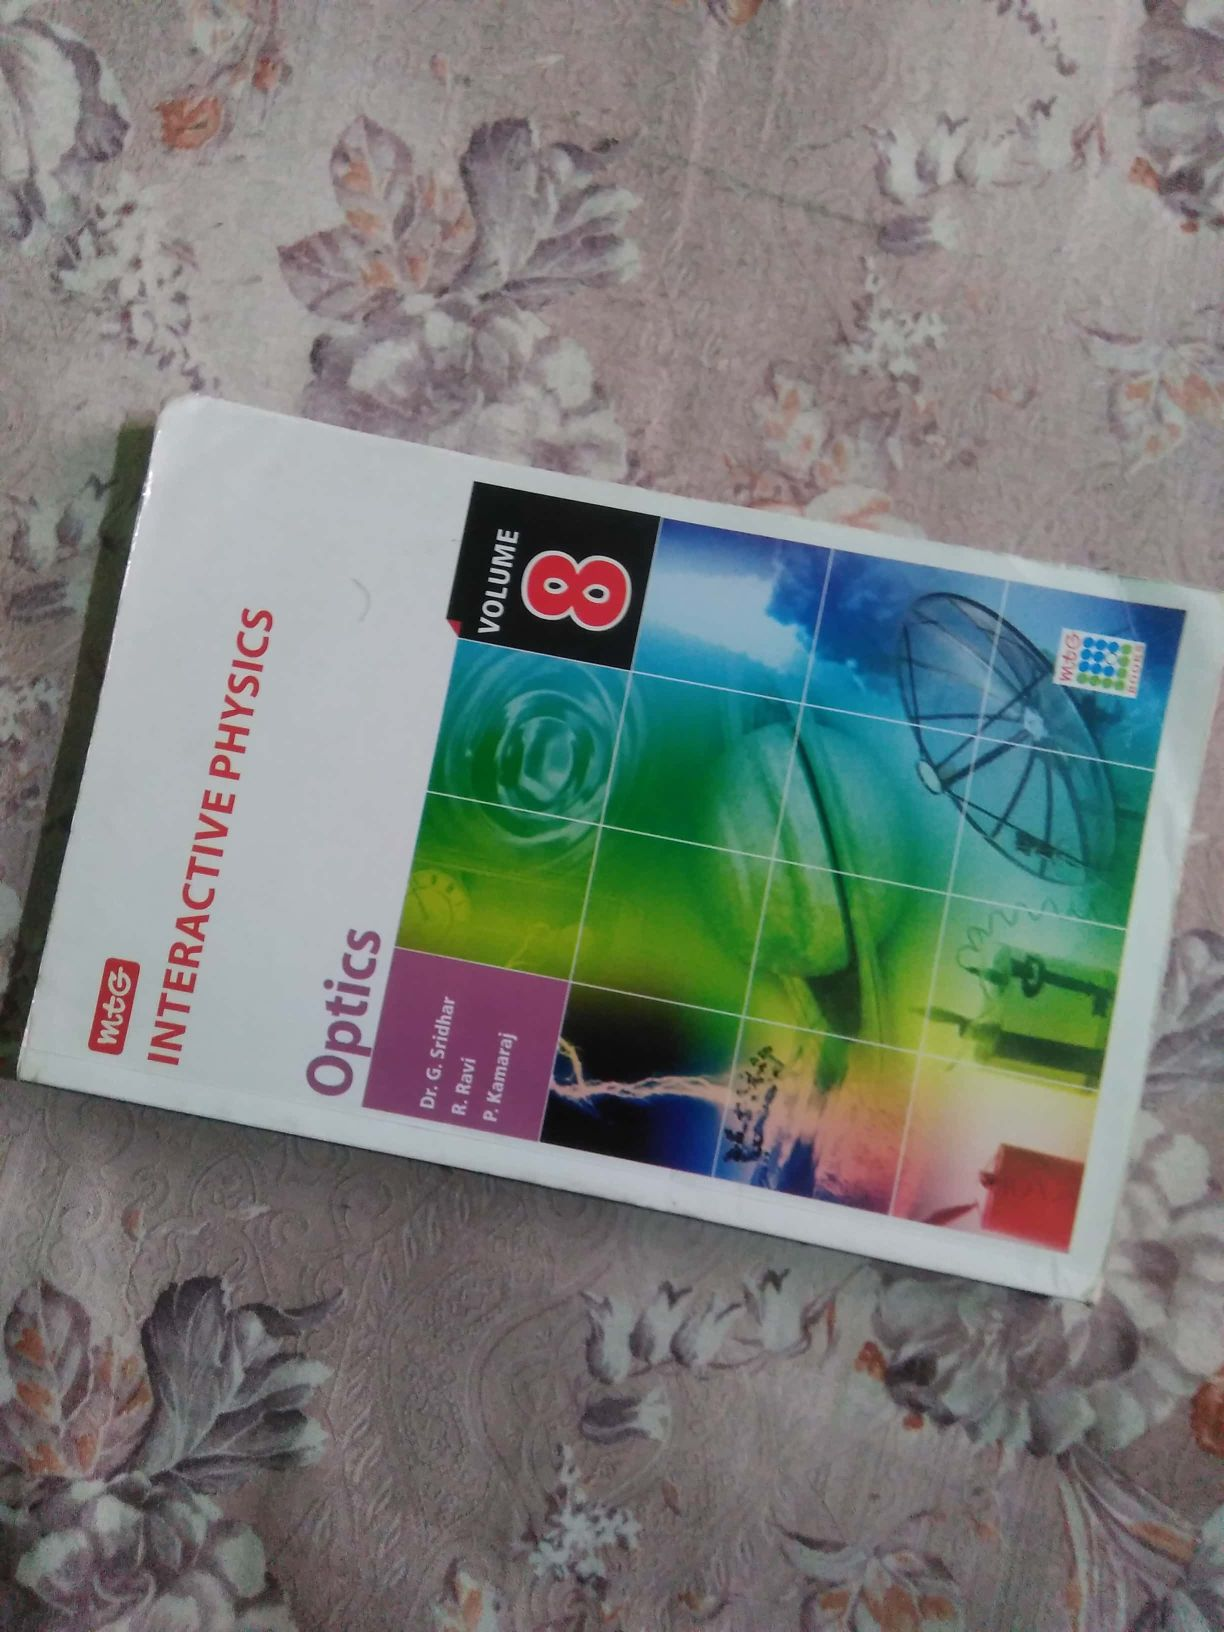optics: (46, 415, 1205, 1369)
